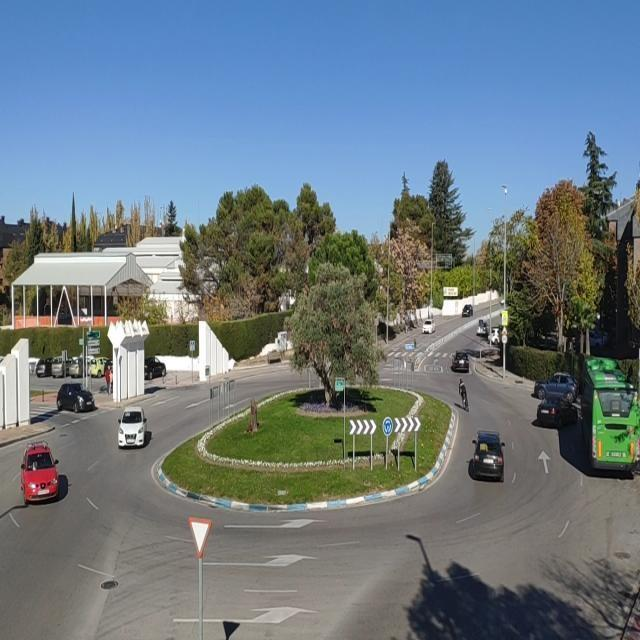Bus: (580, 356, 640, 472)
Car: (20, 442, 59, 504), (471, 432, 507, 480), (536, 396, 578, 428), (534, 372, 578, 402), (117, 406, 148, 447), (56, 383, 96, 413), (68, 356, 93, 378), (51, 356, 76, 378), (144, 357, 166, 380), (88, 356, 110, 378), (35, 358, 56, 378), (451, 352, 470, 372), (590, 330, 609, 350), (489, 327, 502, 345), (476, 320, 488, 337), (422, 319, 435, 334), (480, 348, 498, 358), (461, 304, 473, 318)
